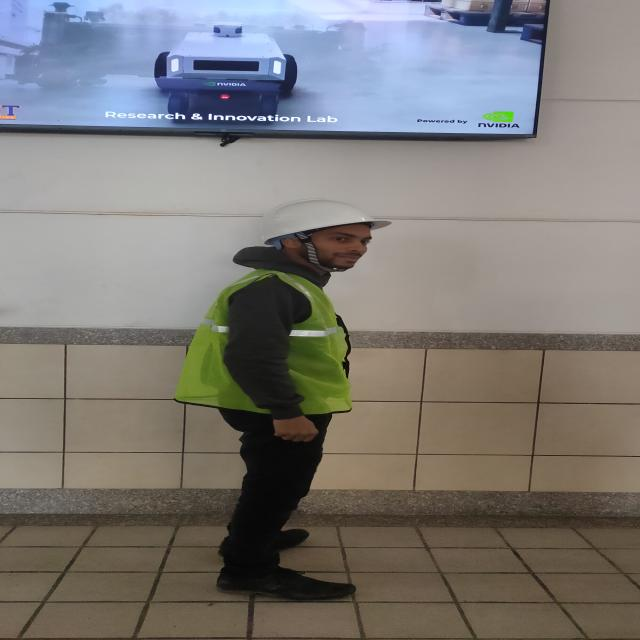safe: (175, 198, 391, 599)
